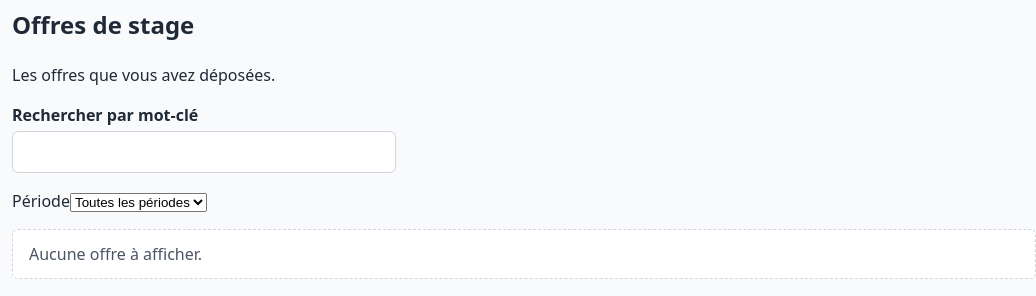
OffersPage › prévoit un message adapté pour une liste vide issue d'une recherche
Expected: the text "Aucune offre à afficher." is shown, [12,229,1035,279]
Expected: the text "Aucune offre ne correspond à la recherche." is not shown
Type "inexistant" into the search field labelled "Rechercher par mot-clé" at x=204, y=152, box [12,131,396,173]
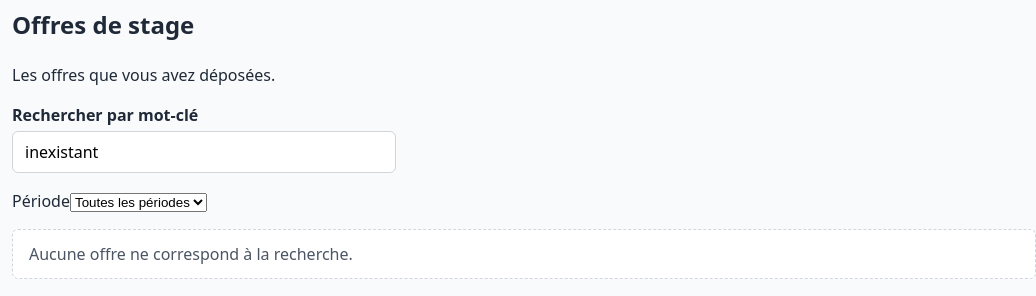
Now the text "Aucune offre ne correspond à la recherche." is shown, box [12,229,1035,279]
